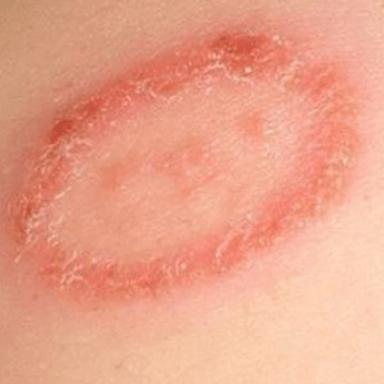Tinea-Corporis: (8, 31, 361, 301)
